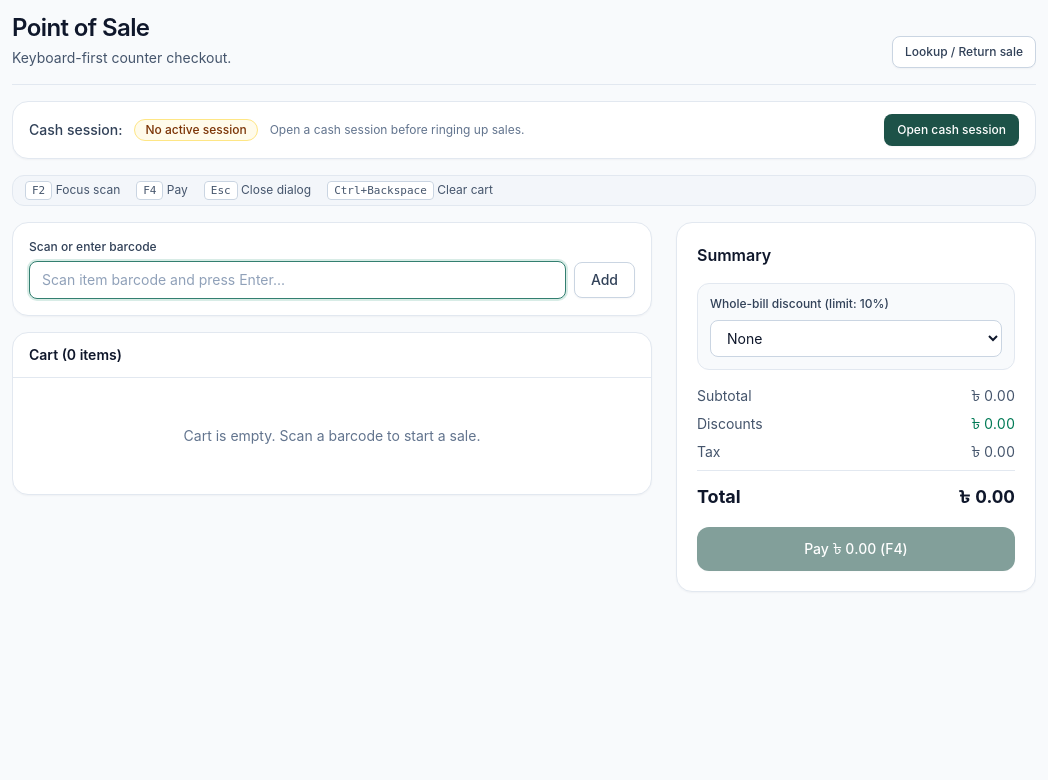
Test case: POS & Sales History flows › scans items into cart, increments quantity on repeat scan, and retains focus on unknown barcode
Type "2000000000001" into the field labelled "Scan or enter barcode" at (297, 280), box [29,261,566,299]
Then press Enter
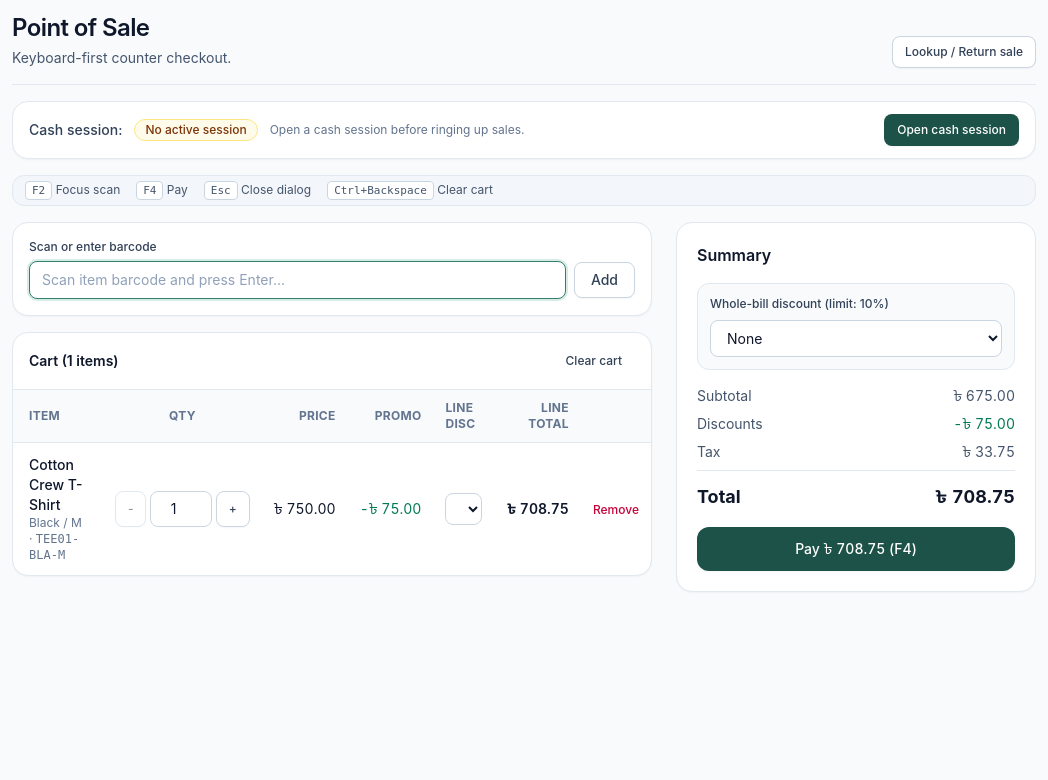
Expected: the text "Cotton Crew T-Shirt" is shown, [29,455,87,515]
Expected: the number field named "Quantity for TEE01-BLA-M" holds "1", [150,491,212,527]
# Repeat scan increments quantity
Type "2000000000001" into the field labelled "Scan or enter barcode" at (297, 280), box [29,261,566,299]
Then press Enter
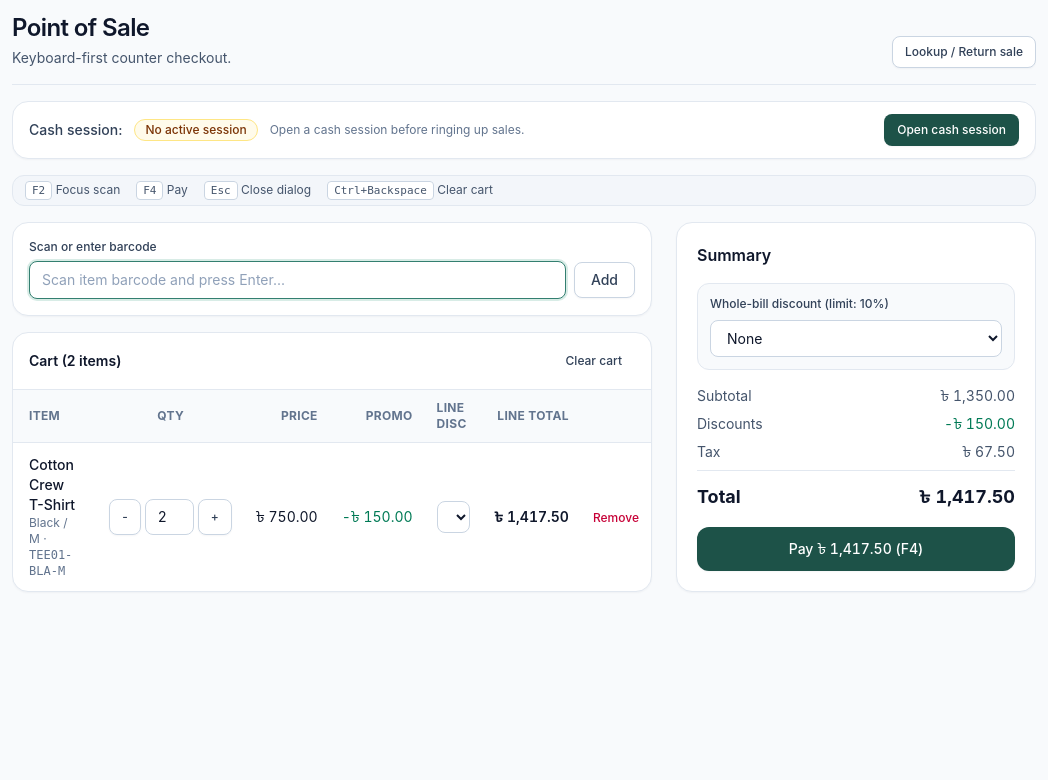
Expected: the number field named "Quantity for TEE01-BLA-M" holds "2", [145,499,194,535]
# Unknown barcode shows error and preserves focus
Type "0000000000000" into the field labelled "Scan or enter barcode" at (297, 280), box [29,261,566,299]
Then press Enter
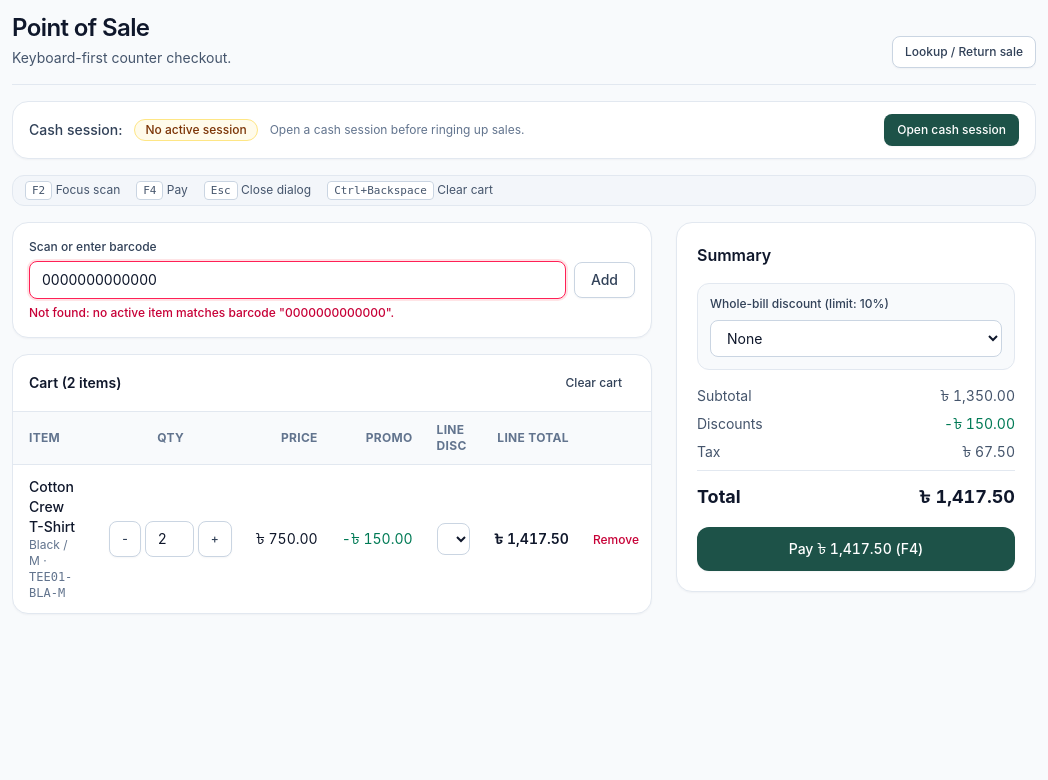
Expected: the message reads "Not found: no active item matches barcode \"0000000000000\".", [29,305,394,320]
